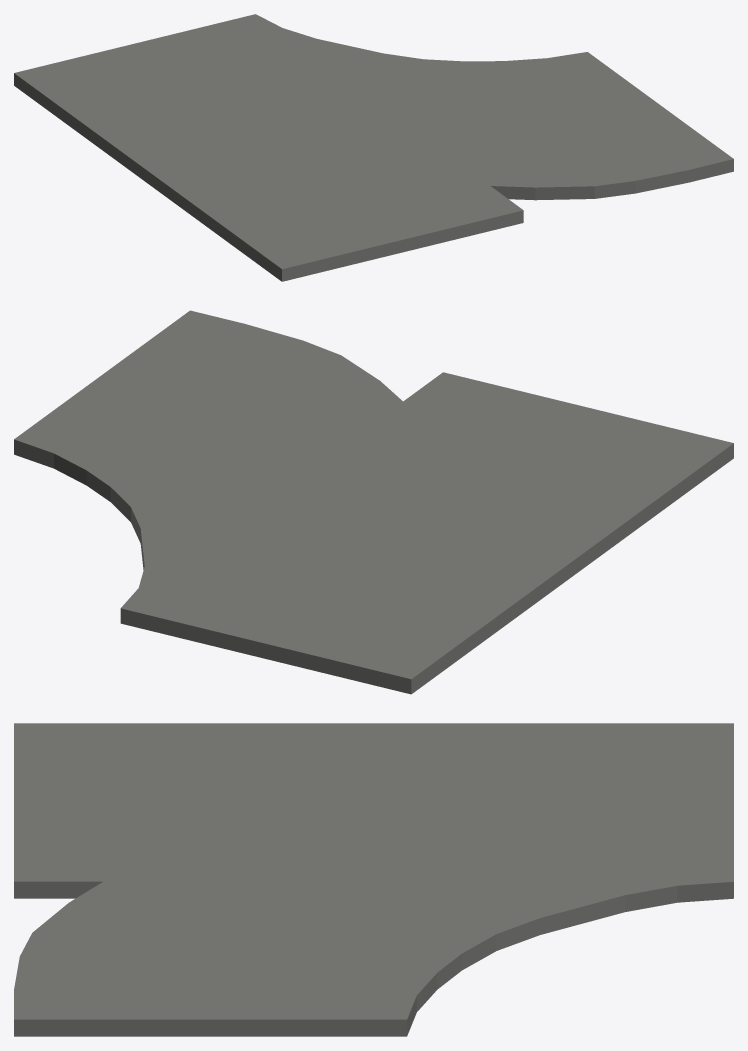
The model's file is SM_runway_strip_06.glb.
The picture shows the model from 3 angles, top to bottom: view 1: azimuth 30°, elevation 25°; view 2: azimuth 150°, elevation 25°; view 3: azimuth 270°, elevation 25°; orthographic projection. The views are drawn at different scales.
Parts seen in each view (by area): view 1: SM_runway_strip_06; view 2: SM_runway_strip_06; view 3: SM_runway_strip_06.
Boxes of the visible parts, x1=… form: SM_runway_strip_06: x1=14, y1=14, x2=733, y2=281; SM_runway_strip_06: x1=14, y1=310, x2=733, y2=694; SM_runway_strip_06: x1=14, y1=723, x2=733, y2=1036.
Bounding box in the file's own units: 3.74 × 0.1 × 3.84.
Materials: 1 (1 with a texture image).
